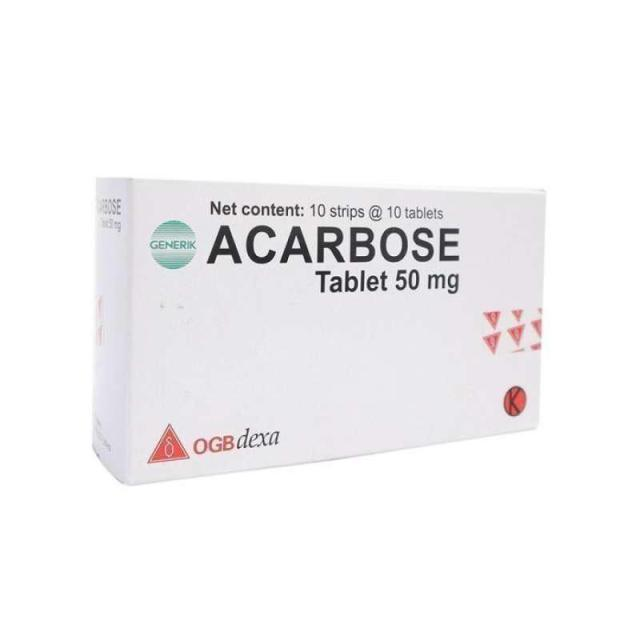drug-name: (211, 219, 466, 264)
